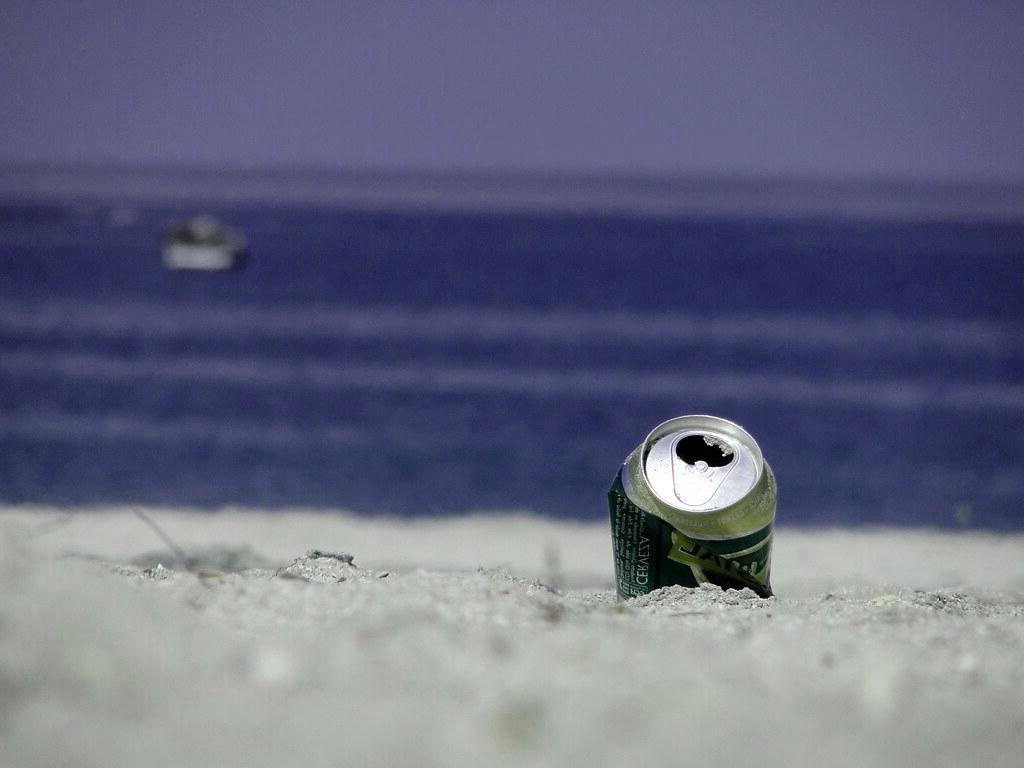Metal: (604, 404, 782, 608)
